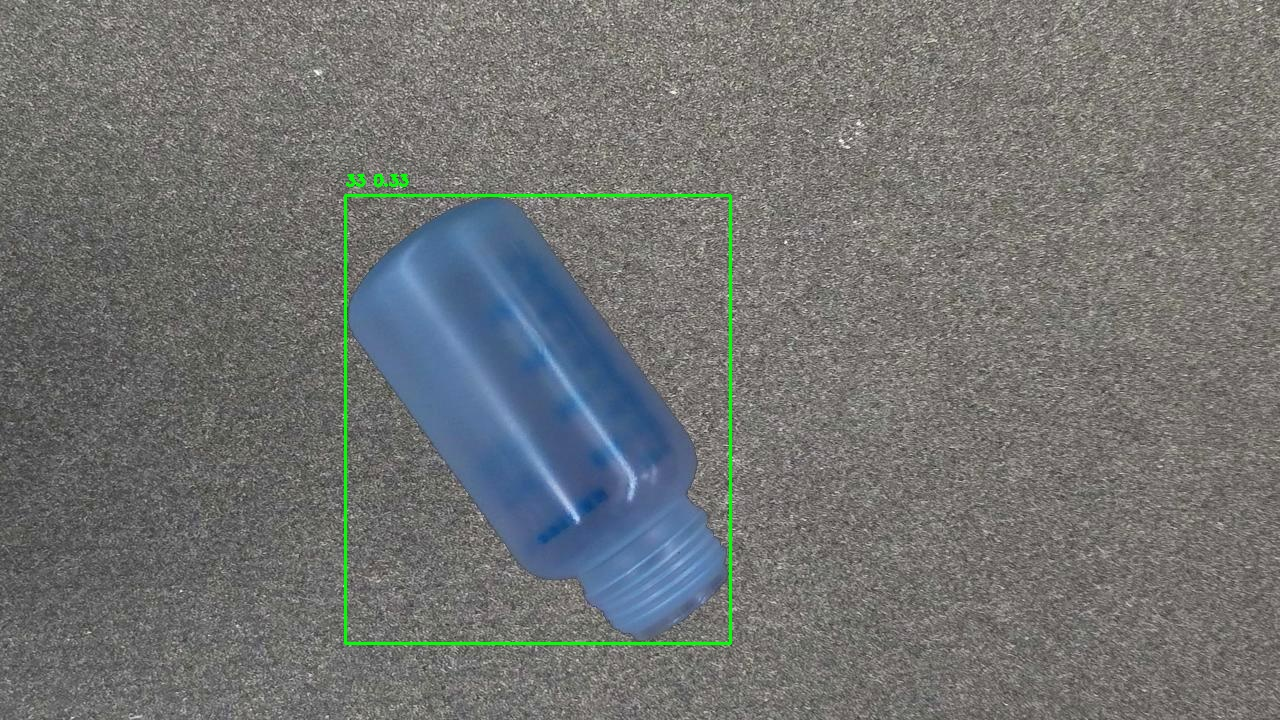cup: (345, 195, 730, 643)
